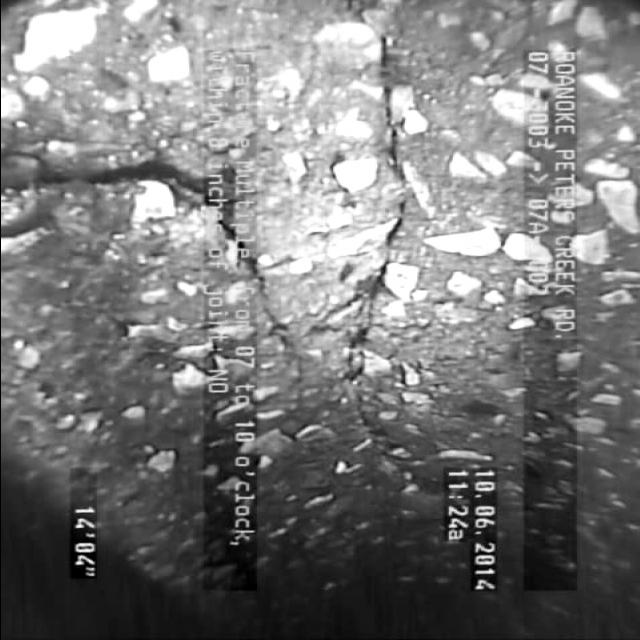Fracture: (248, 56, 461, 503)
